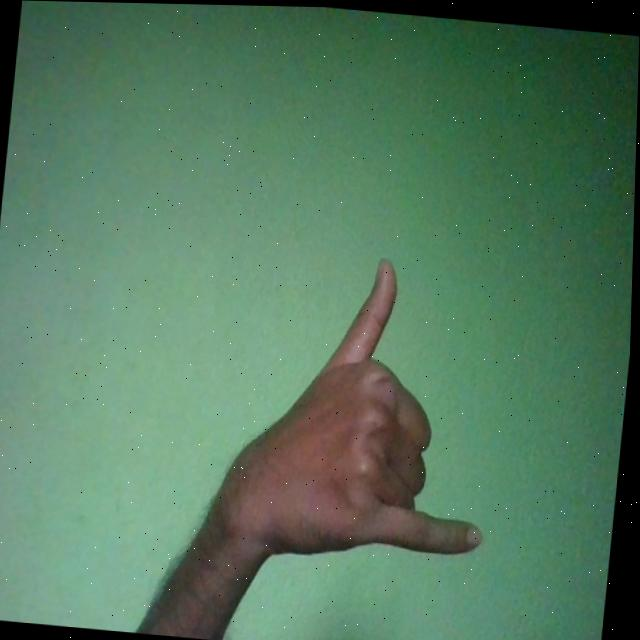Call Me: (212, 241, 513, 574)
